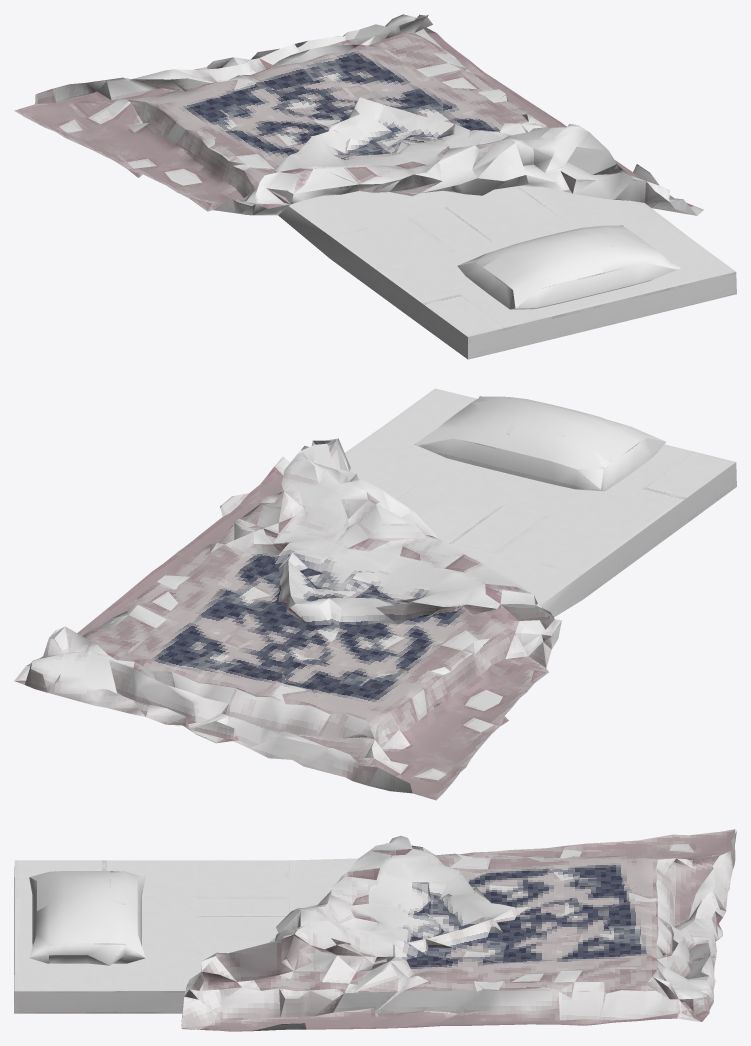
File: futon_set.glb
3 views of the same model, one above another, from view 1: azimuth 30°, elevation 25°; view 2: azimuth 150°, elevation 25°; view 3: azimuth 270°, elevation 25° (orthographic). The views are drawn at different scales.
Parts seen in each view (by area): view 1: mesh; view 2: mesh; view 3: mesh.
Part boxes in pixels (x1,y1,x2,y2): mesh: (14, 14, 736, 359); mesh: (14, 388, 736, 800); mesh: (14, 829, 736, 1031).
Size of the model in its own units: 1.83 by 0.3 by 2.77.
Materials: 1 (1 with a texture image).
